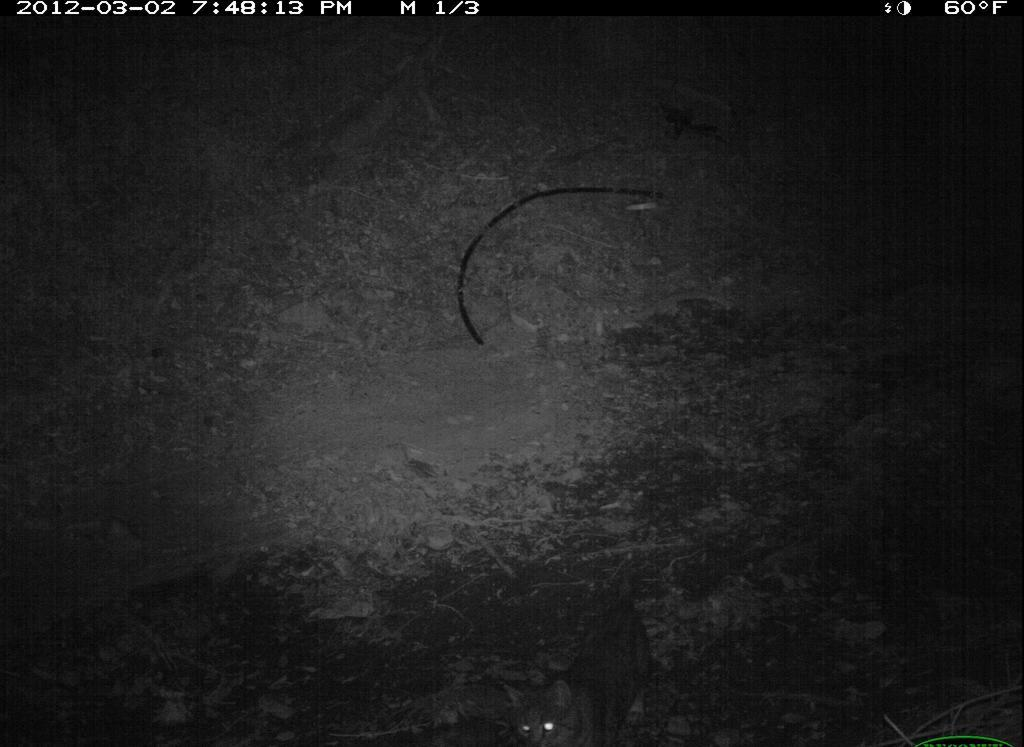cat: (495, 592, 665, 740)
